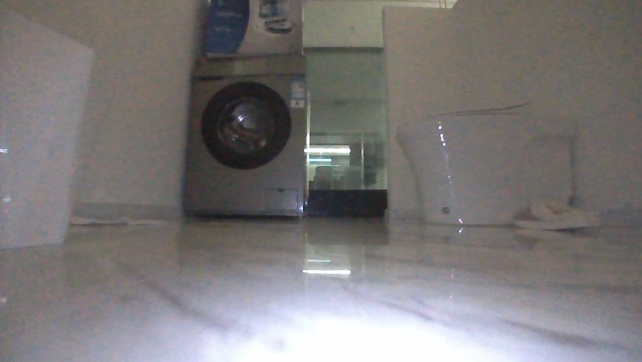shoe: (512, 195, 603, 231)
socks: (68, 212, 170, 228)
toilet: (392, 97, 578, 229)
trash_can: (0, 0, 95, 251)
washing_machine: (181, 52, 308, 218)
